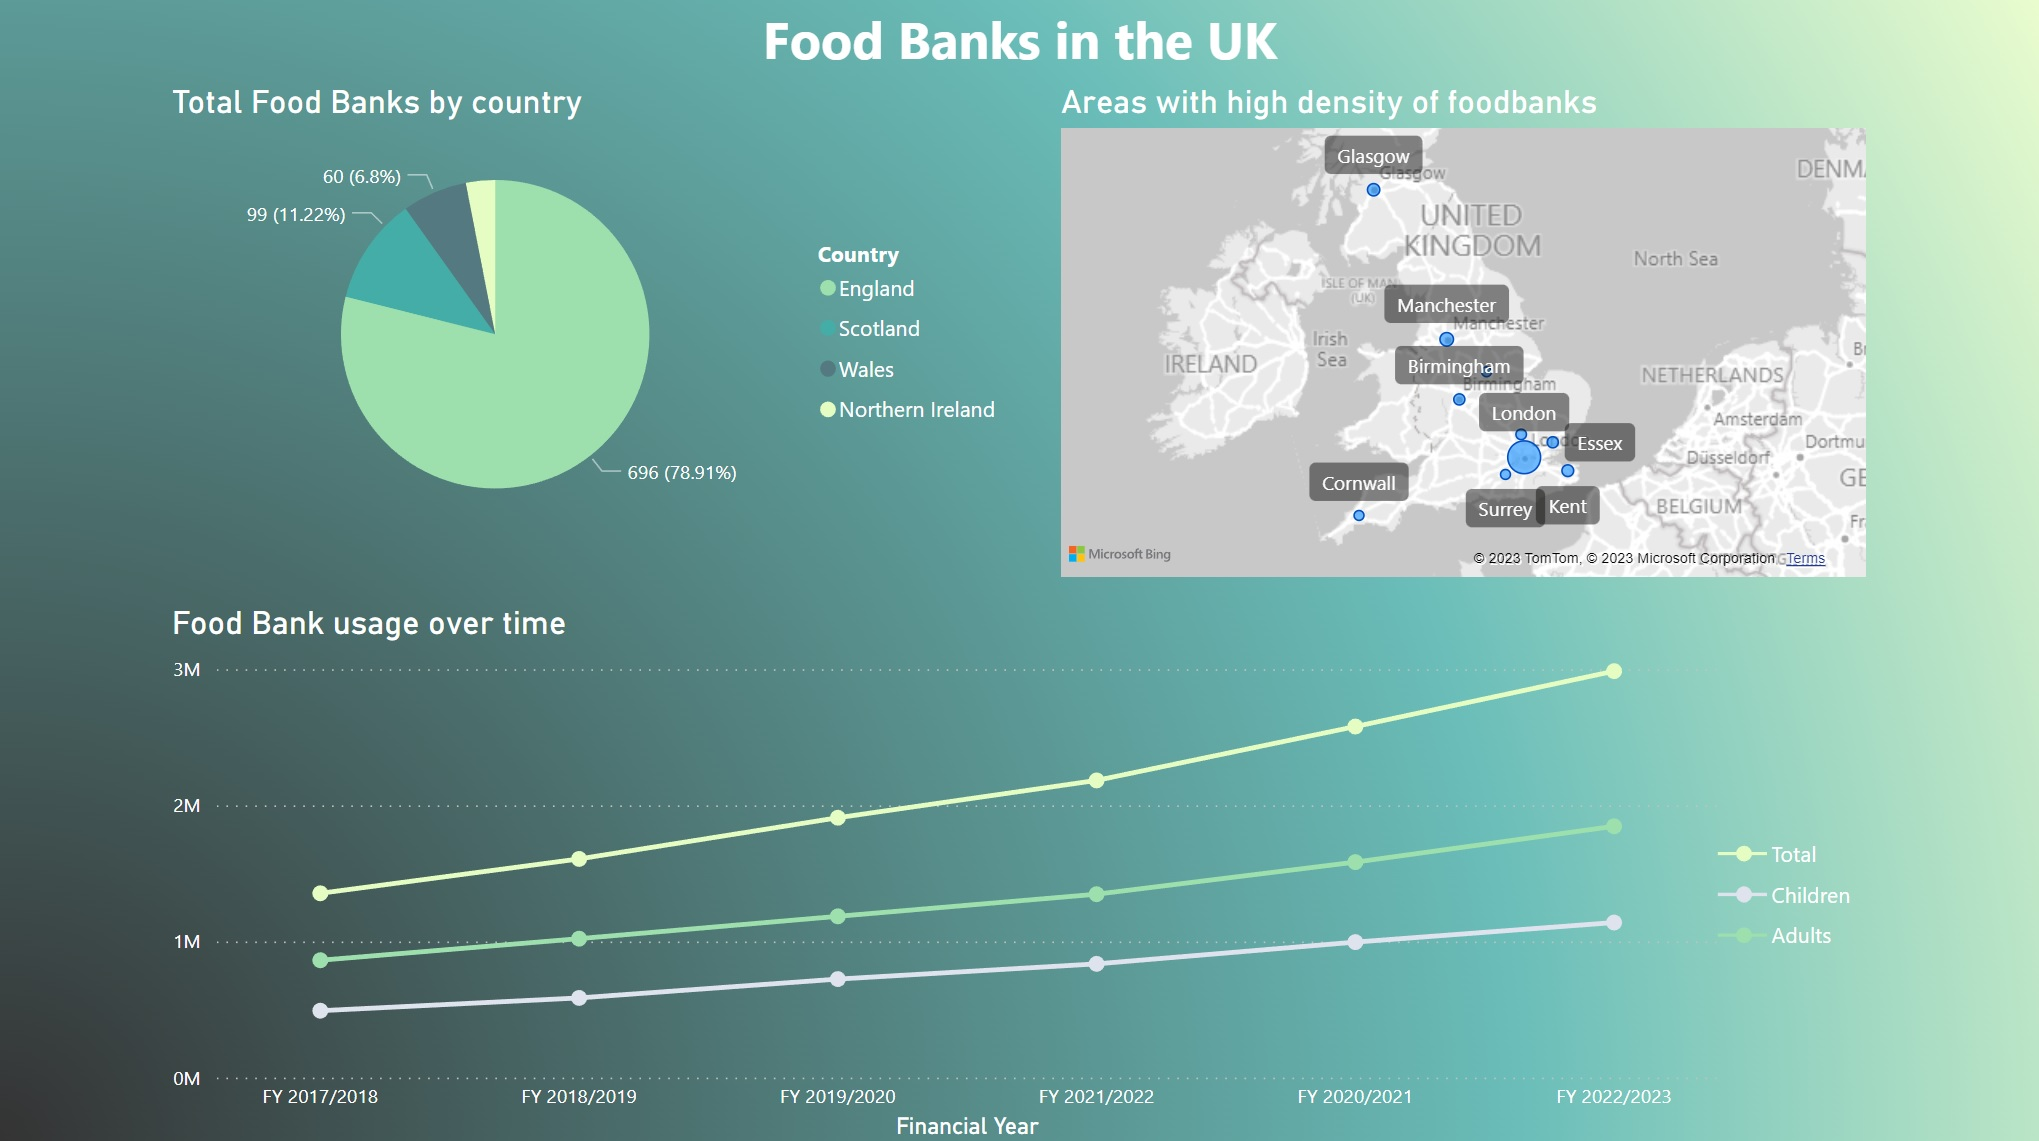

The dashboard page shown, as its layout file describes it:
{"tool":"powerbi","page":{"name":"Foodbank Reporting","canvas":[1280,720],"ordinal":0},"visuals":[{"type":"pieChart","title":"Total Food Banks by country","fields":{"Category":["Total_foodbanks_by_country.Country"],"Y":["Sum(Total_foodbanks_by_country.Number of Food Banks)"]},"box":[106.4,55,533.6,290.7],"z":0},{"type":"map","title":"Areas with high density of foodbanks","fields":{"Category":["Total_foodbanks_by_county.County"],"Y":["Avg(Total_foodbanks_by_county.Latitude)"],"X":["Avg(Total_foodbanks_by_county.Longitude)"],"Size":["Sum(Total_foodbanks_by_county.Number of Food Banks)"]},"box":[662.1,55,512.9,314.3],"z":1000},{"type":"textbox","box":[475.7,0,436.4,57.9],"z":2000},{"type":"lineChart","title":"Food Bank usage over time","fields":{"Category":["Trussell-Trust-End-of-Year-Statistics-2018-2023.Financial Year"],"Y":["Sum(Trussell-Trust-End-of-Year-Statistics-2018-2023.Total)","Sum(Trussell-Trust-End-of-Year-Statistics-2018-2023.Children)","Sum(Trussell-Trust-End-of-Year-Statistics-2018-2023.Adults)"]},"box":[106.4,380.7,1068.6,339.3],"z":3000}]}

Visuals, with their boxes in screenshot pixels (x1, y1, x2, y2), scaled from the page's 1280x720 canvas onto the 2039x1141 screenshot:
"Total Food Banks by country" pieChart: (left=169, top=87, right=1020, bottom=548)
"Areas with high density of foodbanks" map: (left=1055, top=87, right=1872, bottom=585)
textbox: (left=758, top=0, right=1453, bottom=92)
"Food Bank usage over time" lineChart: (left=169, top=603, right=1872, bottom=1140)
